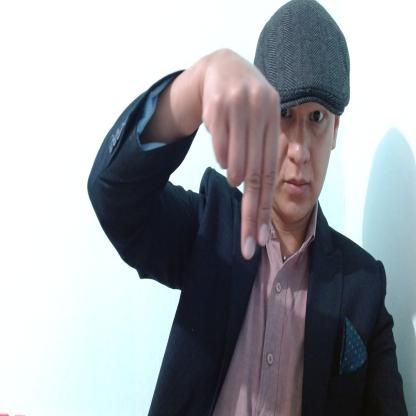N: (197, 50, 282, 262)
